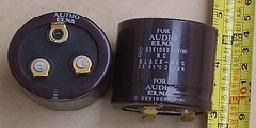Electrolytic-capacitor: (113, 17, 218, 124), (6, 10, 111, 107)
